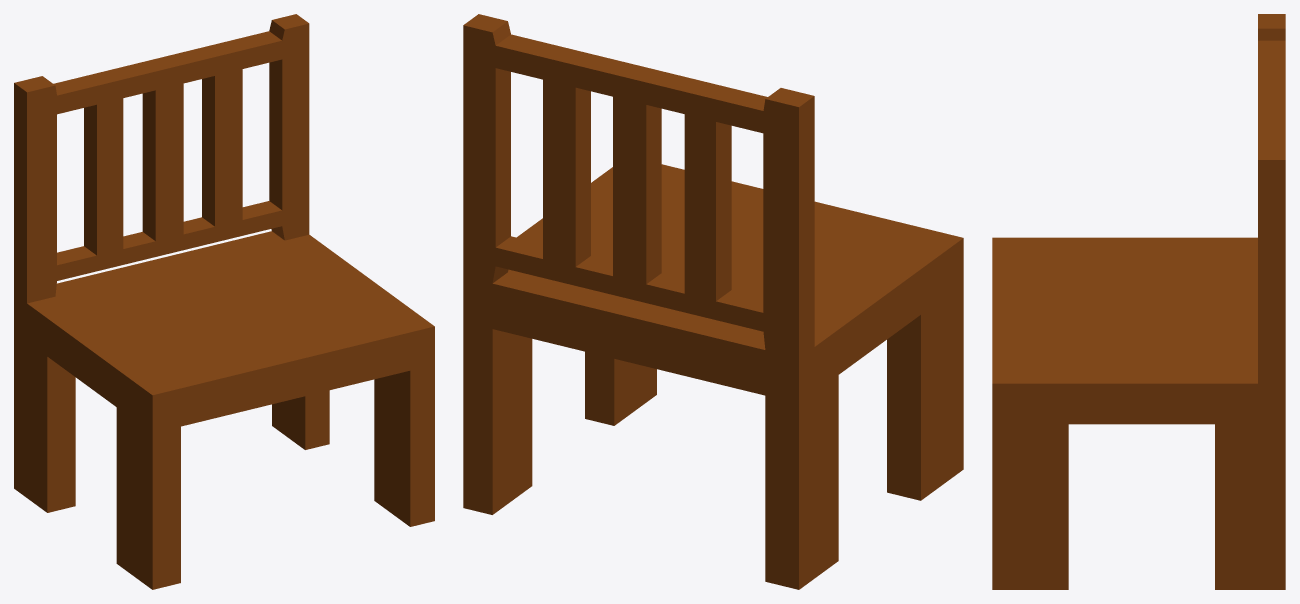
Rendered from chair.fbx.
3 renders of one model, left to right at view 1: azimuth 30°, elevation 25°; view 2: azimuth 150°, elevation 25°; view 3: azimuth 270°, elevation 25°, orthographic. The views are drawn at different scales.
Parts seen in each view (by area): view 1: pCube1; view 2: pCube1; view 3: pCube1.
Boxes of the visible parts, x1=… form: pCube1: x1=14, y1=14, x2=434, y2=589; pCube1: x1=463, y1=14, x2=963, y2=589; pCube1: x1=992, y1=14, x2=1285, y2=589.
Size of the model in its own units: 4.57 by 6.27 by 3.88.
